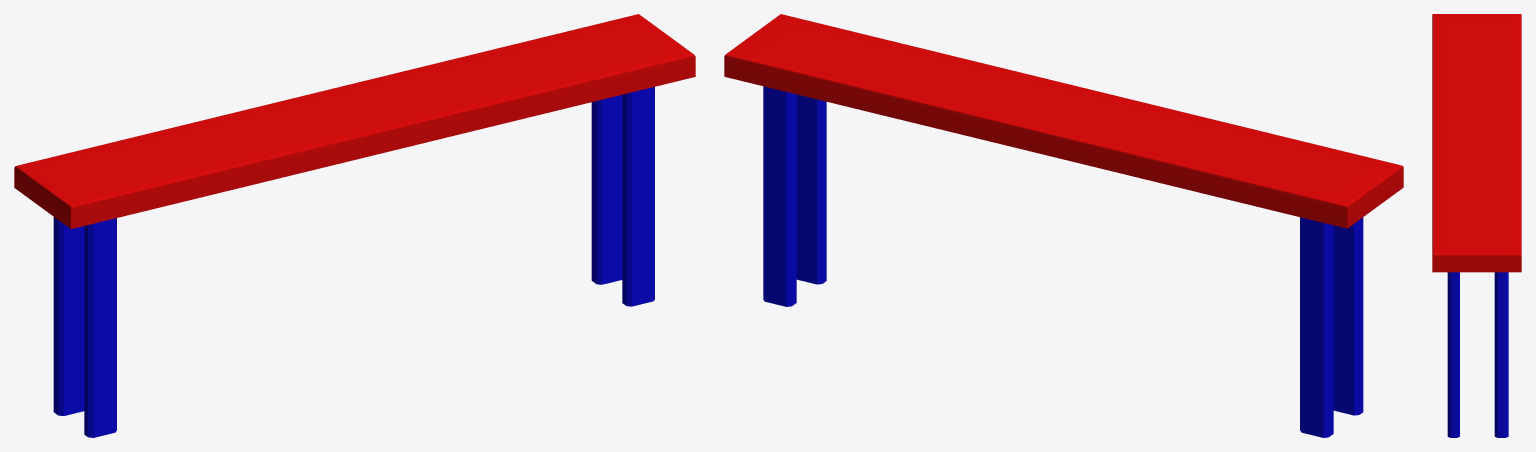
The model's file is FoyerDesk.fbx.
3 renders of one model, left to right at view 1: azimuth 30°, elevation 25°; view 2: azimuth 150°, elevation 25°; view 3: azimuth 270°, elevation 25°, orthographic. The views are drawn at different scales.
Visible parts, largest first — view 1: pCube1; view 2: pCube1; view 3: pCube1.
Part boxes in pixels (left/top/right/bottom): pCube1: left=14, top=14, right=695, bottom=437; pCube1: left=724, top=14, right=1403, bottom=437; pCube1: left=1432, top=14, right=1521, bottom=437.
Bounding box in the file's own units: 217 × 81.69 × 33.98.
